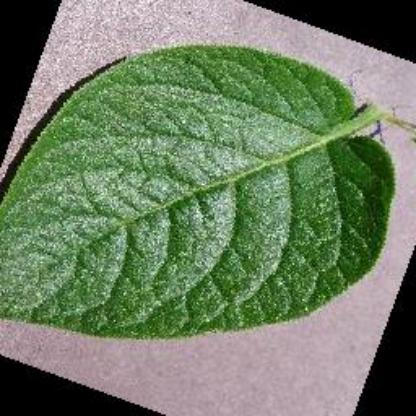Healthy-plant: (2, 43, 396, 344)
